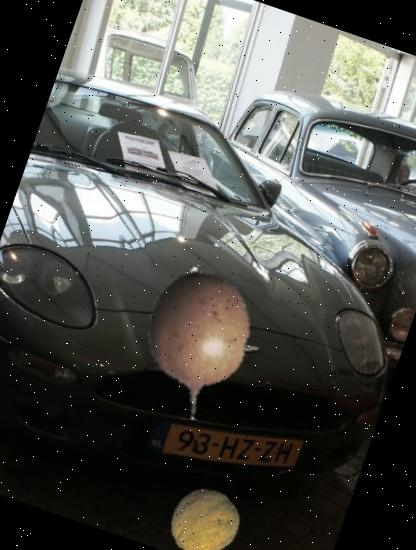Cantaloupe: (159, 478, 248, 550)
Granadilla: (100, 248, 292, 440)
